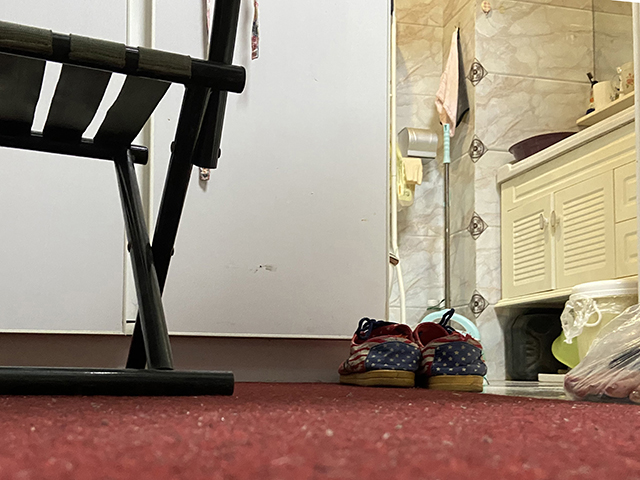cabinet: (1, 1, 398, 385)
carpet: (1, 381, 640, 480)
stool: (1, 1, 247, 399)
trashcan: (560, 277, 640, 366)
